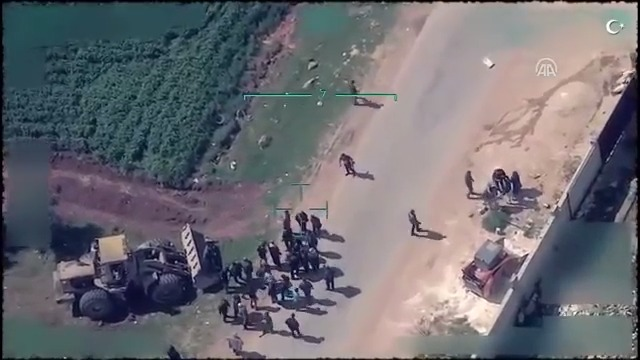insan: (337, 147, 363, 182), (267, 235, 284, 270), (462, 169, 478, 204), (348, 79, 367, 105), (405, 209, 423, 236), (320, 262, 337, 290), (237, 302, 252, 329), (284, 313, 302, 335)
